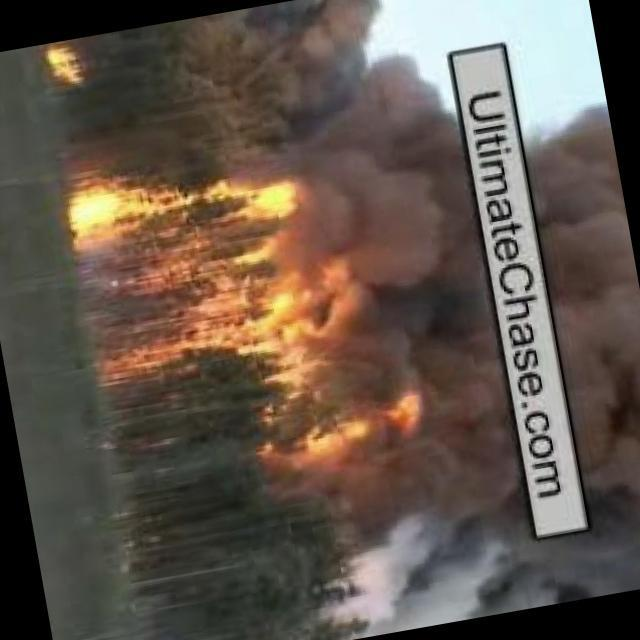Fire: (62, 148, 344, 392), (246, 378, 442, 480), (43, 39, 86, 86)
